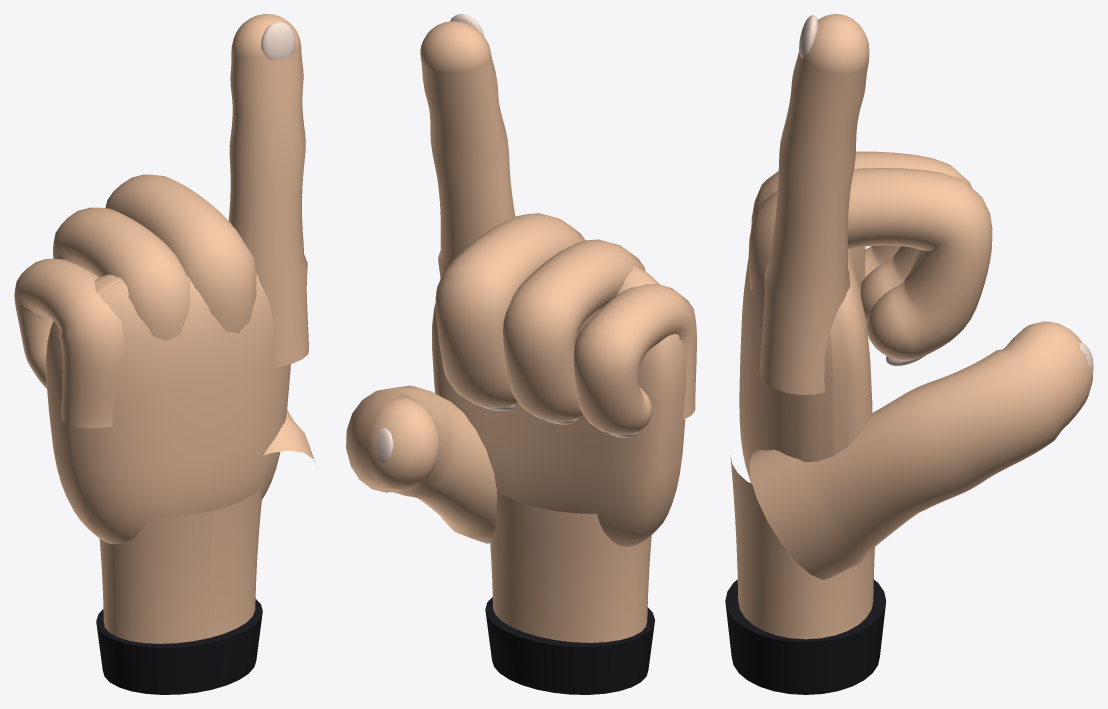
File: hand-left-point.glb
3 renders of one model, left to right at view 1: azimuth 30°, elevation 25°; view 2: azimuth 150°, elevation 25°; view 3: azimuth 270°, elevation 25°, orthographic. The views are drawn at different scales.
Visible parts, largest first — view 1: hand-left-point; view 2: hand-left-point; view 3: hand-left-point.
Part boxes in pixels (x1,y1,x2,y2): hand-left-point: (14,14,315,694); hand-left-point: (346,14,696,694); hand-left-point: (725,14,1093,694).
Bounding box in the file's own units: 0.0862 × 0.1993 × 0.0957.
